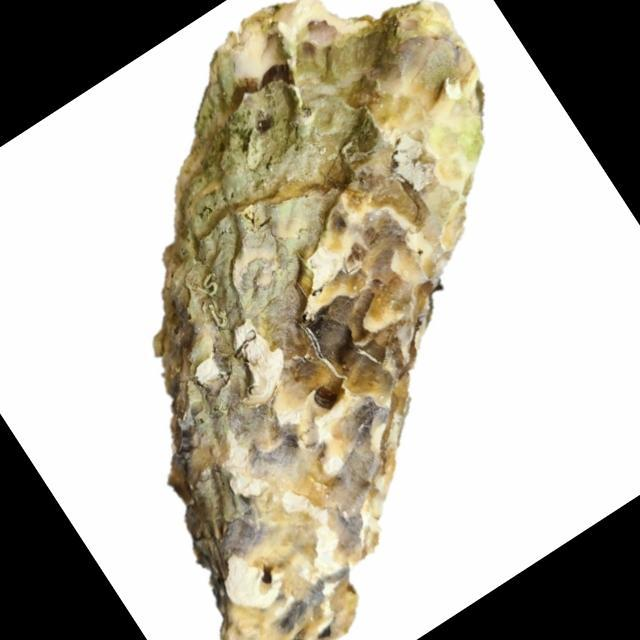Oyster- Indeterminate: (153, 0, 486, 640)
